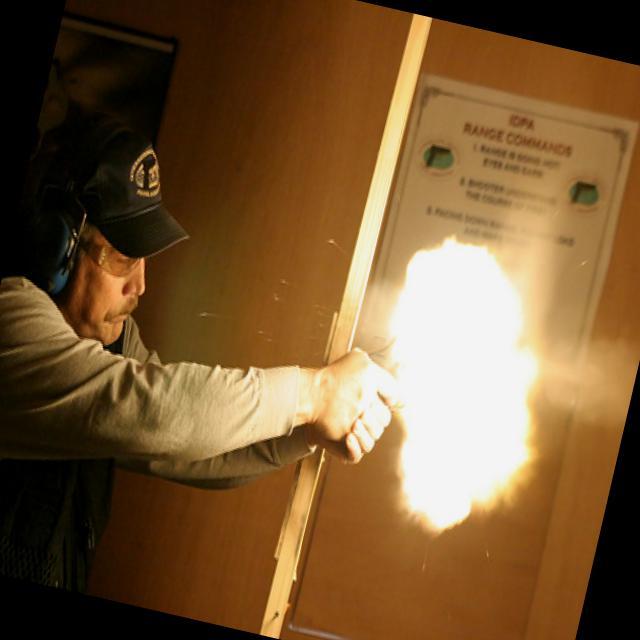handgun: (328, 318, 451, 465)
